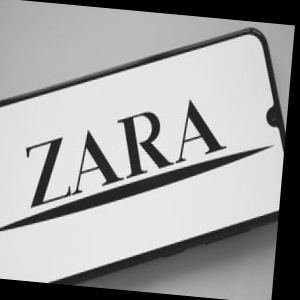zara: (40, 99, 287, 169)
